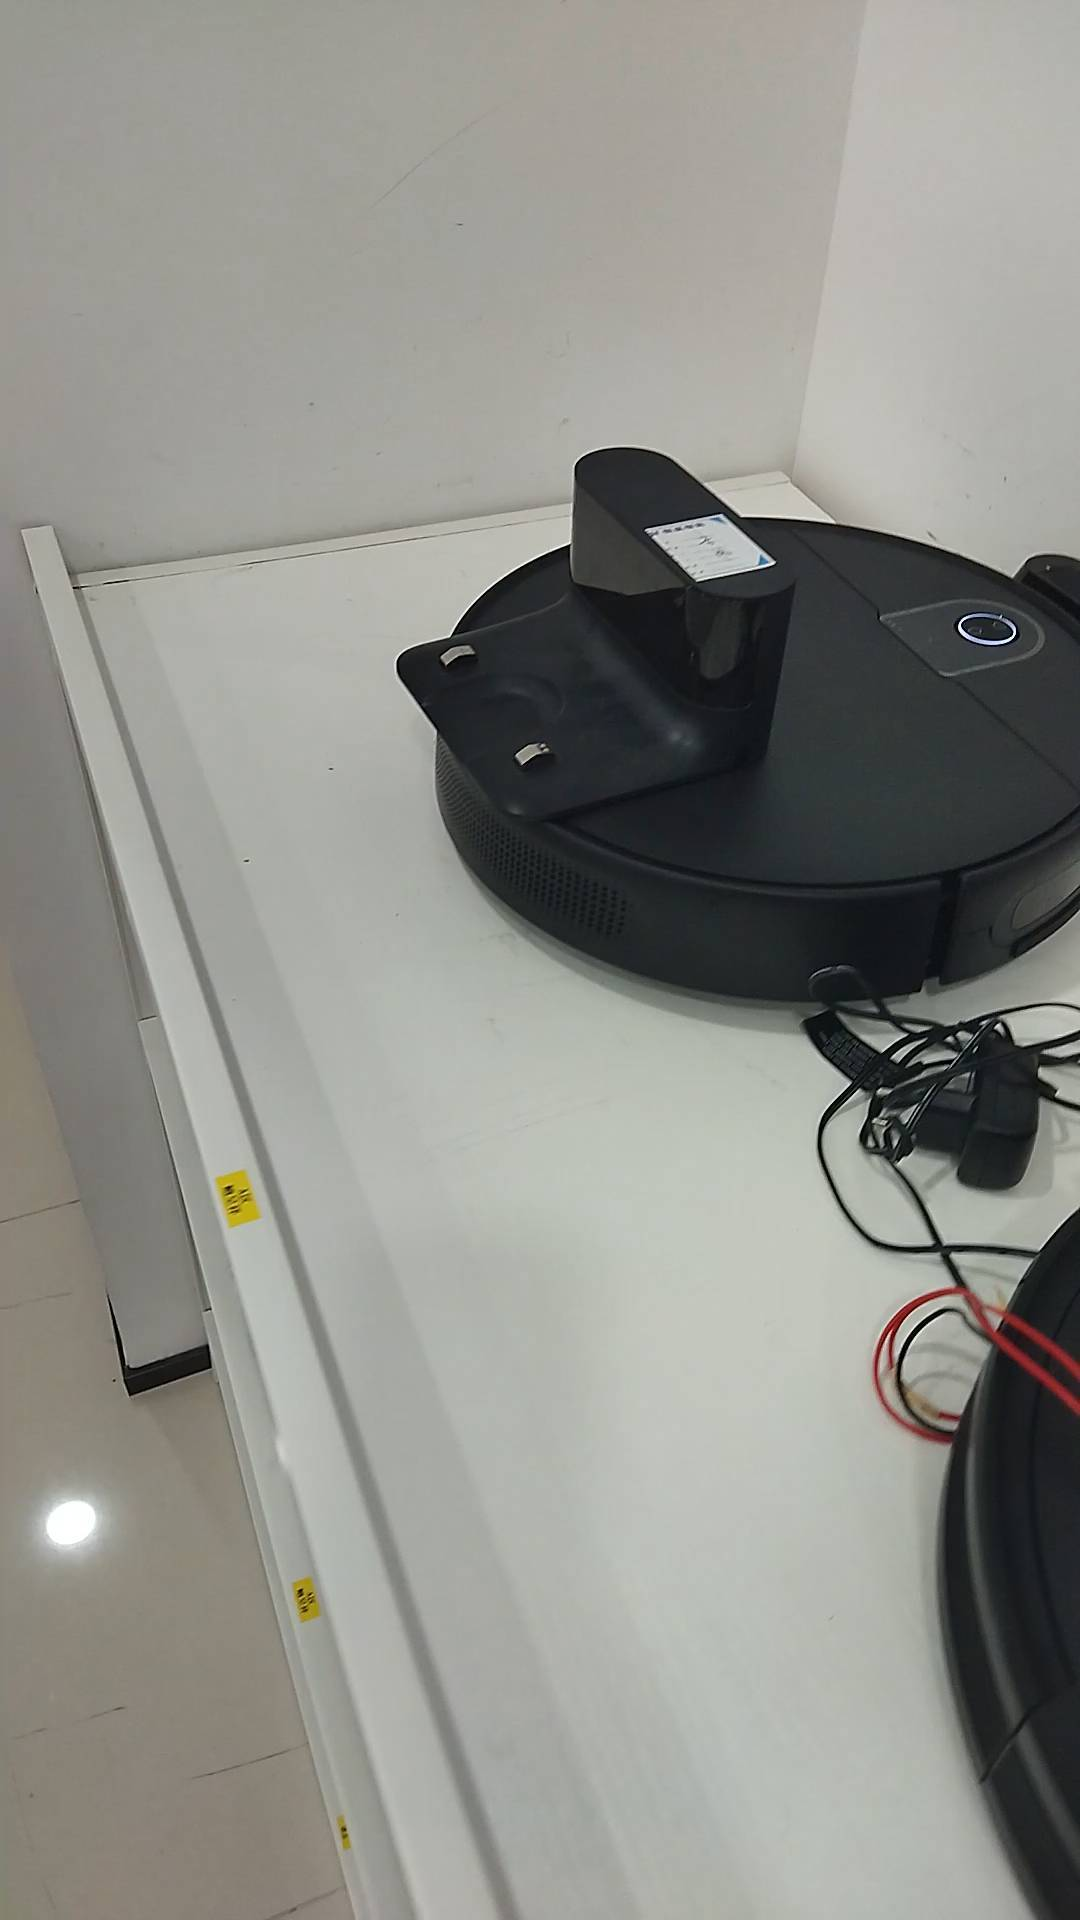recharge seat: (396, 448, 796, 827)
